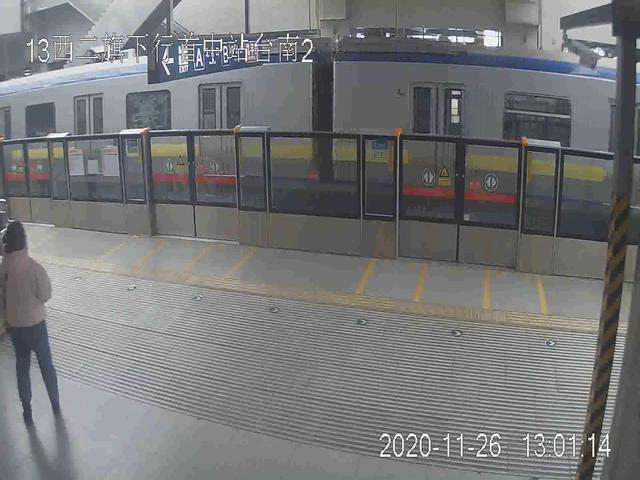person: (1, 219, 64, 424)
